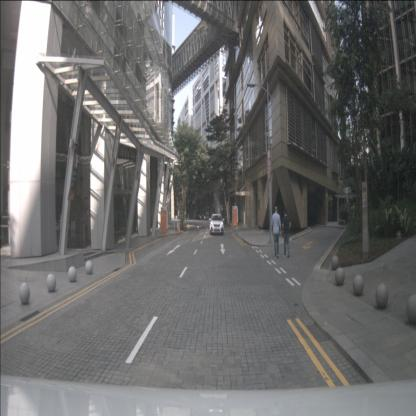human-pedestrian-adult: (271, 206, 282, 260), (282, 209, 291, 258)
vehicle-car: (209, 213, 224, 235), (200, 213, 208, 220)
